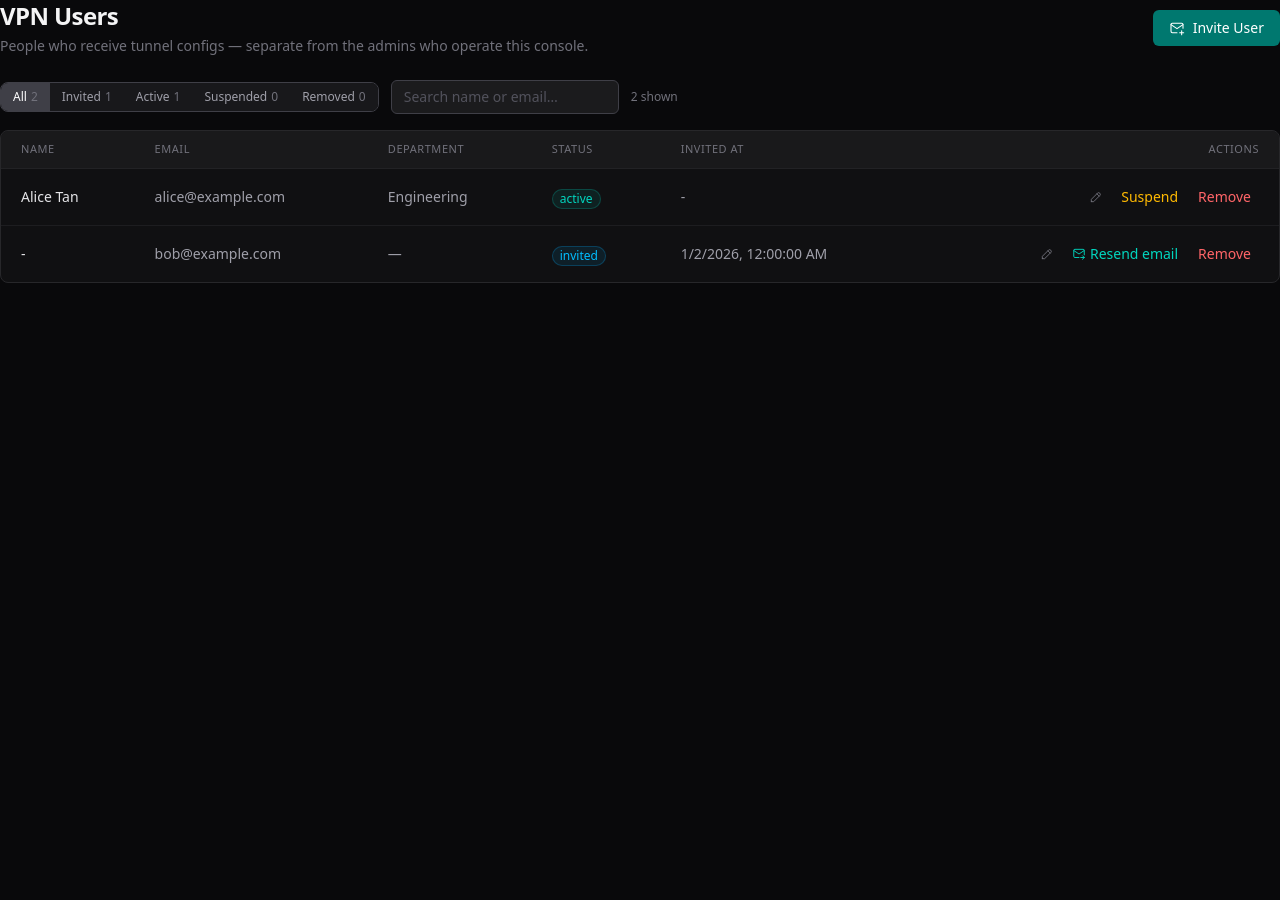
Test: UsersPage departments › shows a duplicate-email error inline when the server rejects the change
Expected: the text "Alice Tan" is shown, [1,168,135,225]
Click the button named "Edit user for alice@example.com": (1096, 196) [1083,182,1109,210]
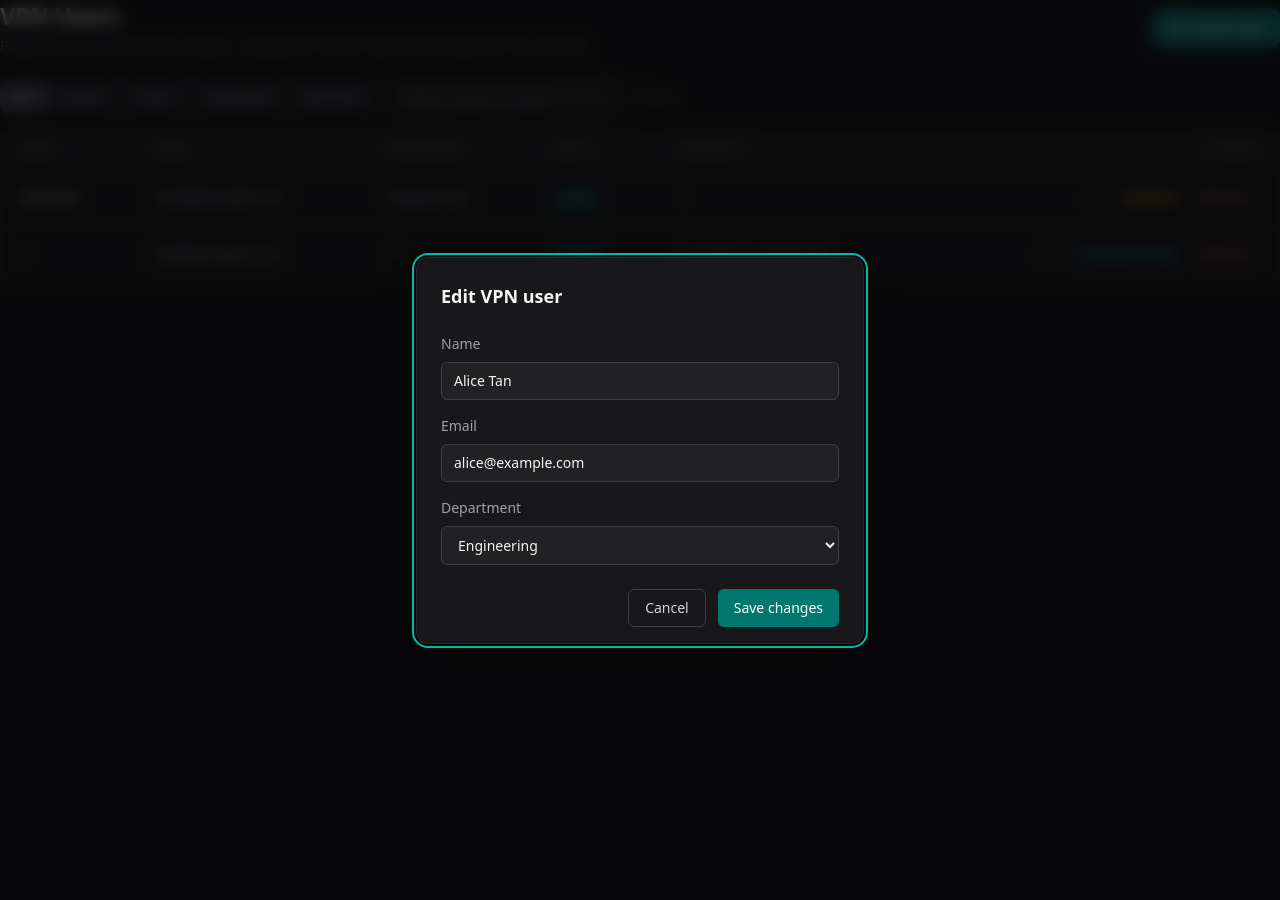
Replace the text in the field labelled "Email" with "bob@example.com": (640, 462) [441,444,839,482]
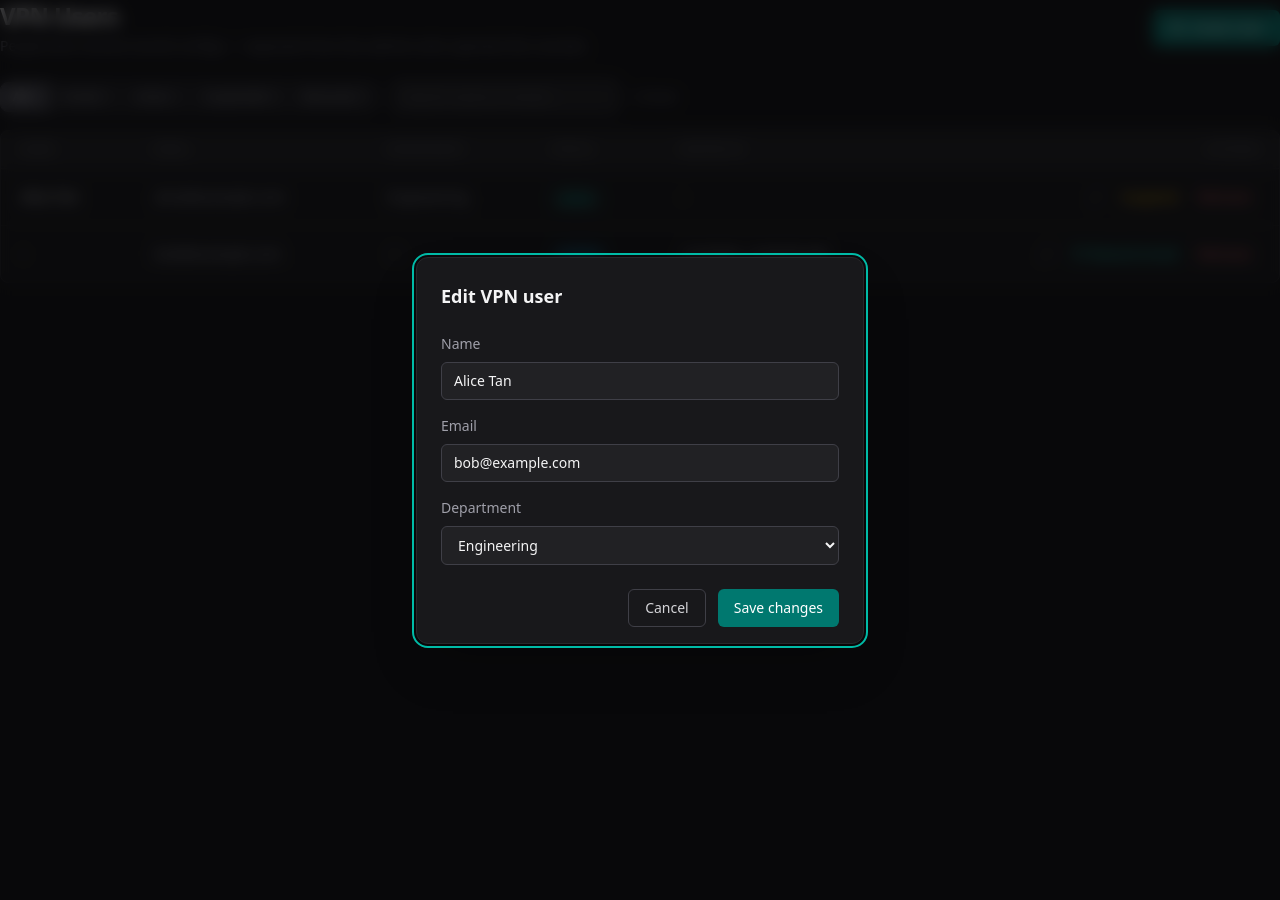
Click the button "Save changes": (778, 608) [718,588,839,626]
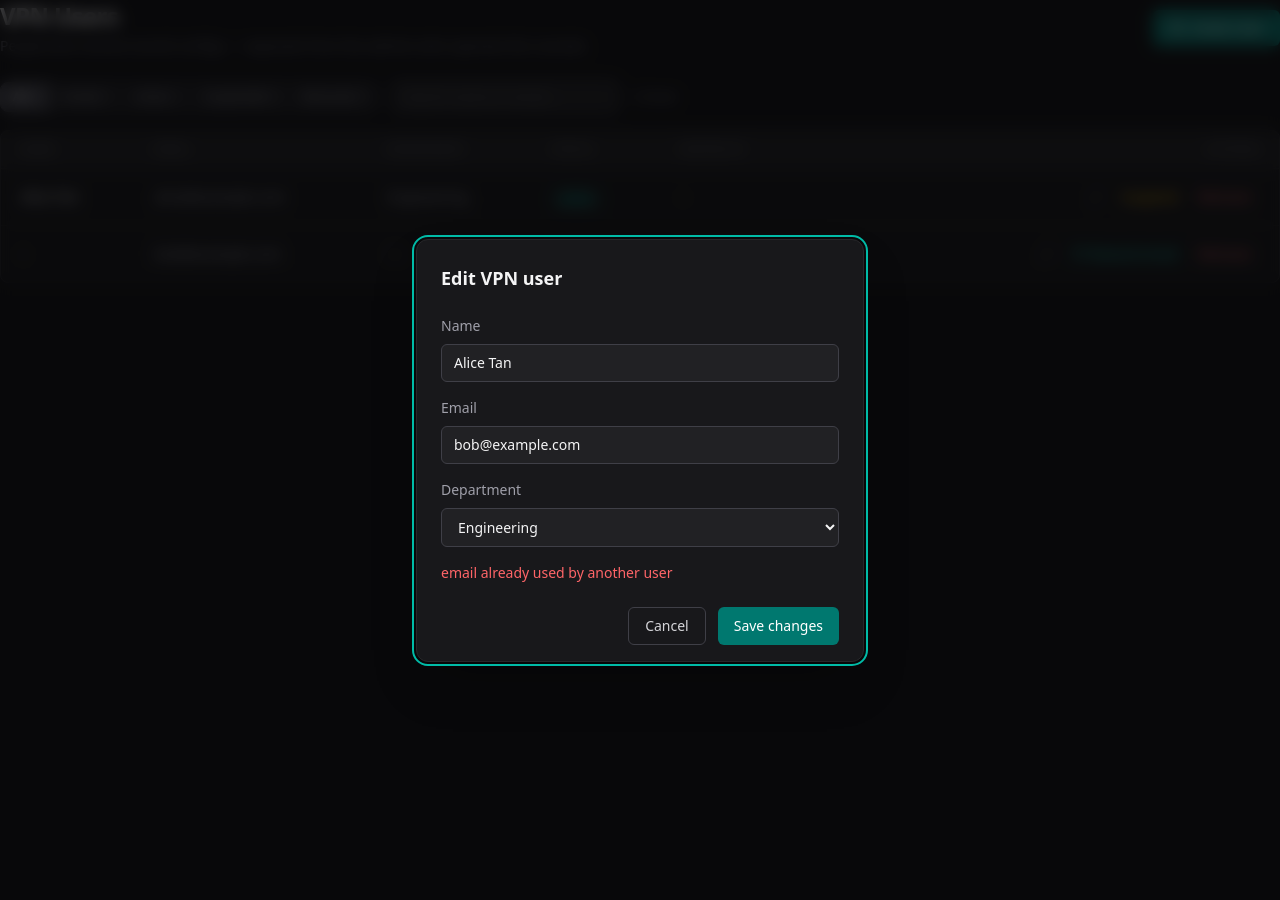
Result: the dialog is shown at [416,238,864,662]
Result: the message reads "email already used by another user" at [441,562,672,582]
